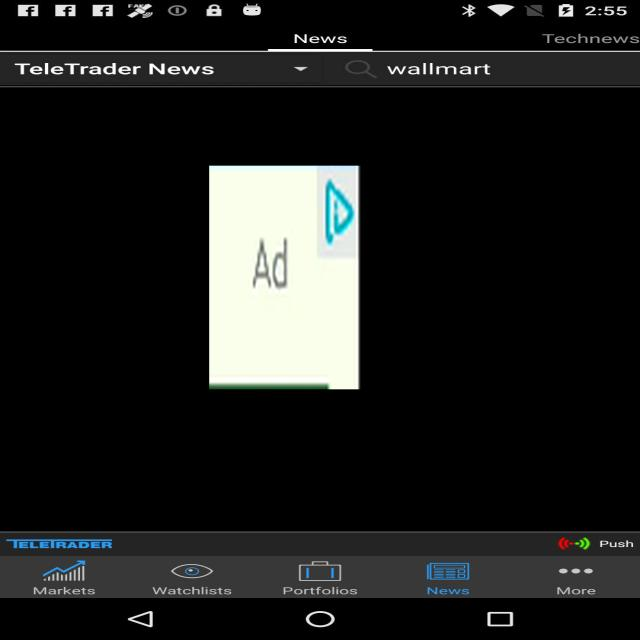sneaking: (209, 166, 361, 389)
